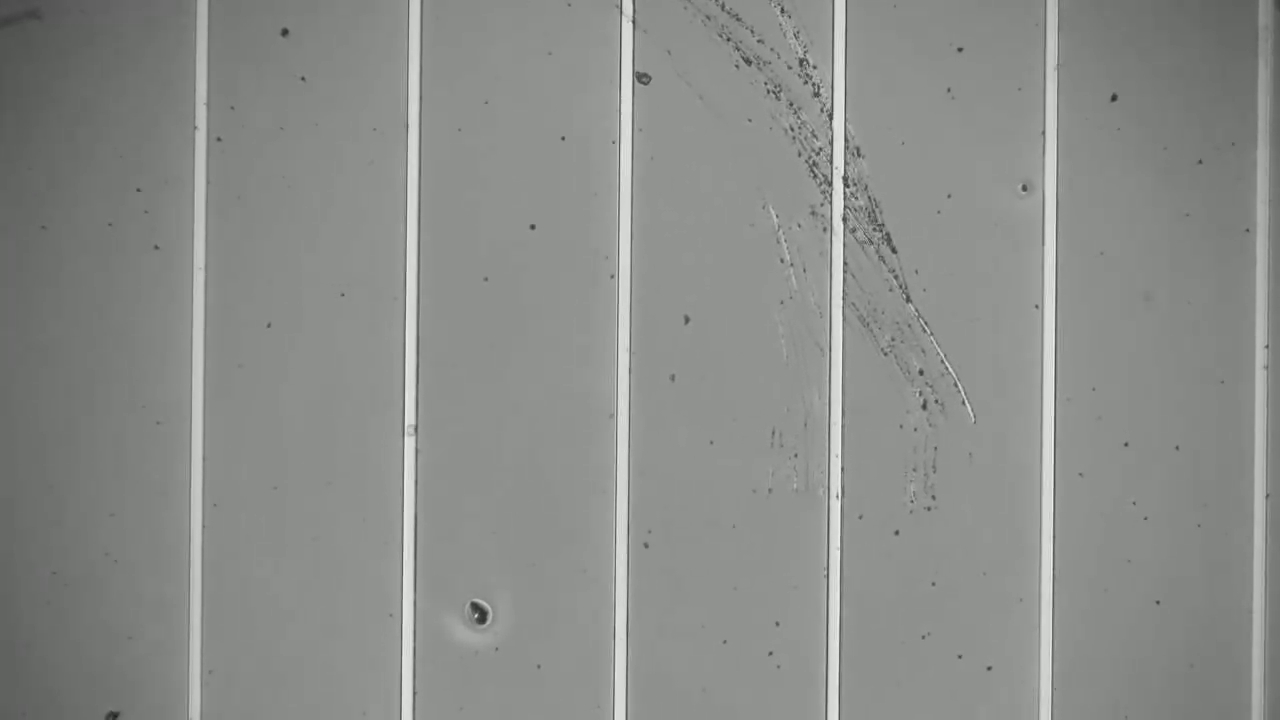scratch: (696, 1, 993, 405)
